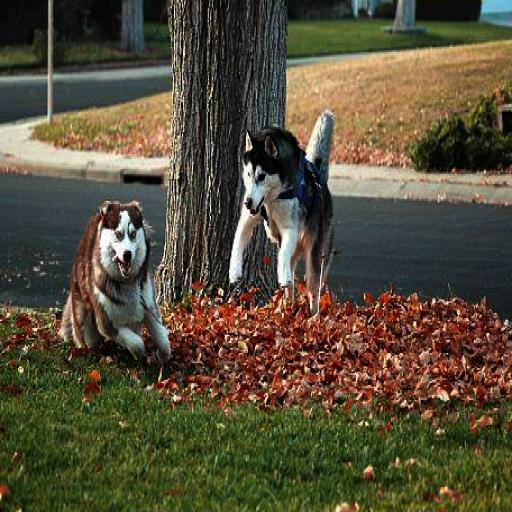dog_face: (239, 136, 280, 218), (98, 202, 140, 273)
